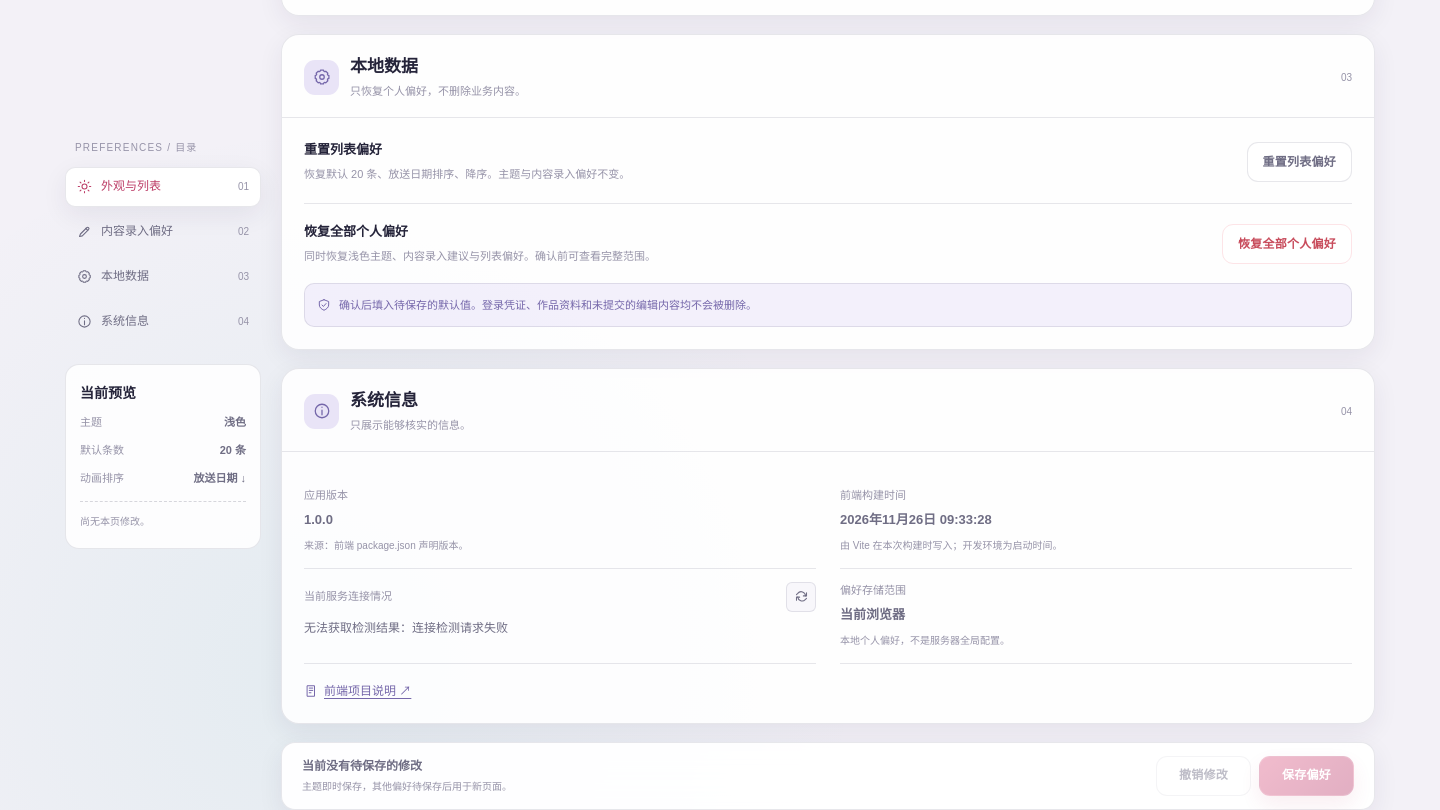
Test case: 系统设置页面 › 检测请求失败不推断服务故障，手动重试后恢复显示
(page scrolled)
Expected: the message with class "health-error" shows "无法获取检测结果", [304,621,508,635]
Click the button named "刷新服务连接检测" at (801, 597), box [786,582,816,612]
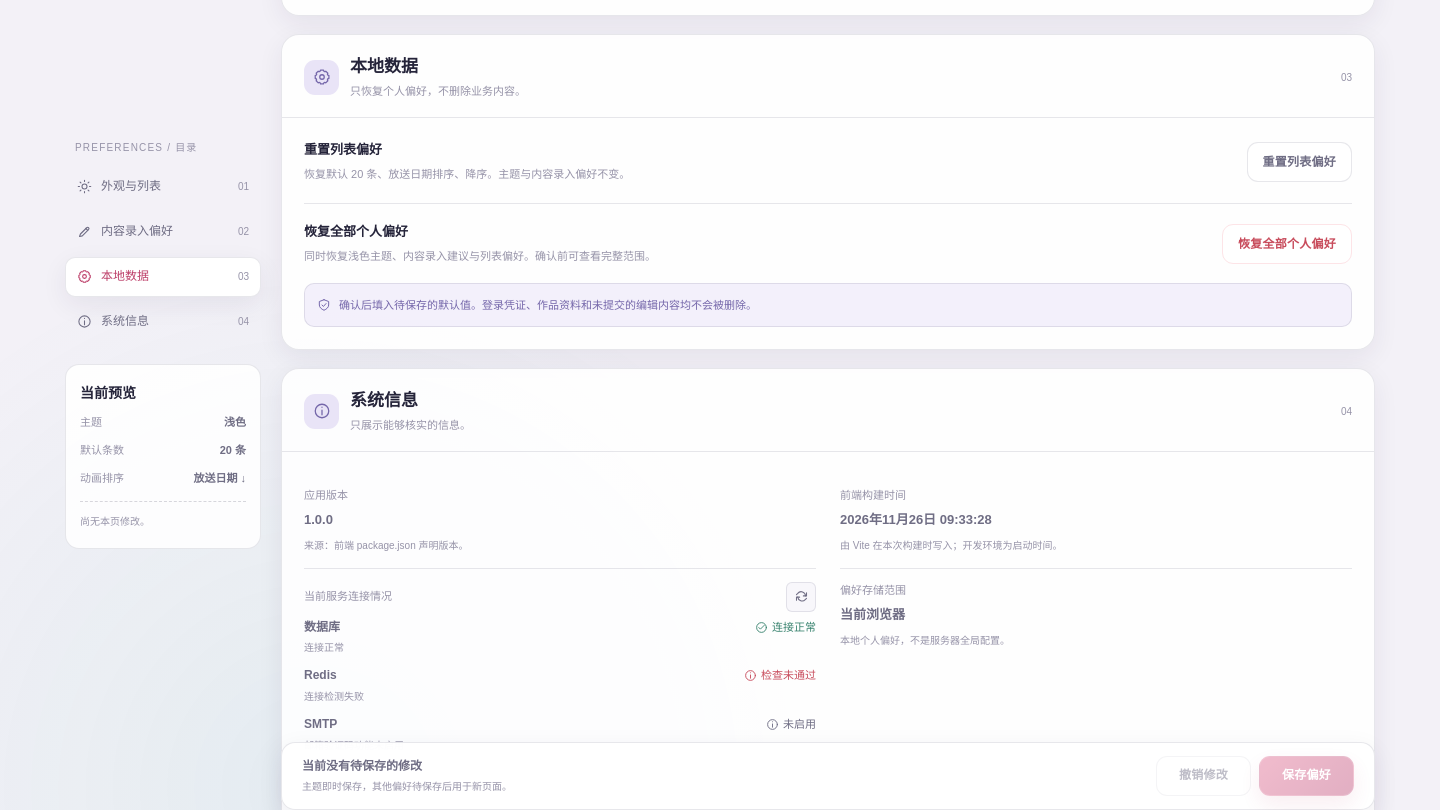
Expected: the list with class "health-services" is shown, [304,618,816,754]
